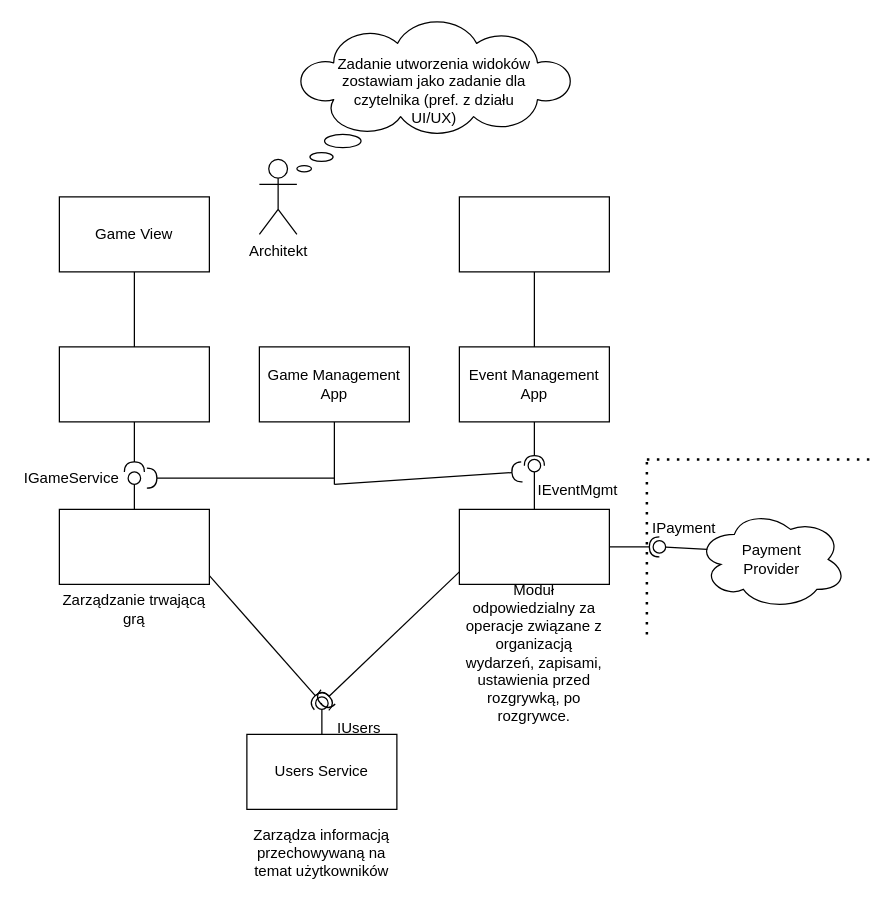
Some shapes in this 895 by 919 pixel diagram are drawn without their labels. Here are the shapes that lost their labels. From the top down, the box of each, then its label:
(458, 196, 609, 272): Event View
(58, 346, 209, 422): Game App
(58, 508, 209, 584): In-Game Service
(458, 508, 609, 584): Event Management Service
